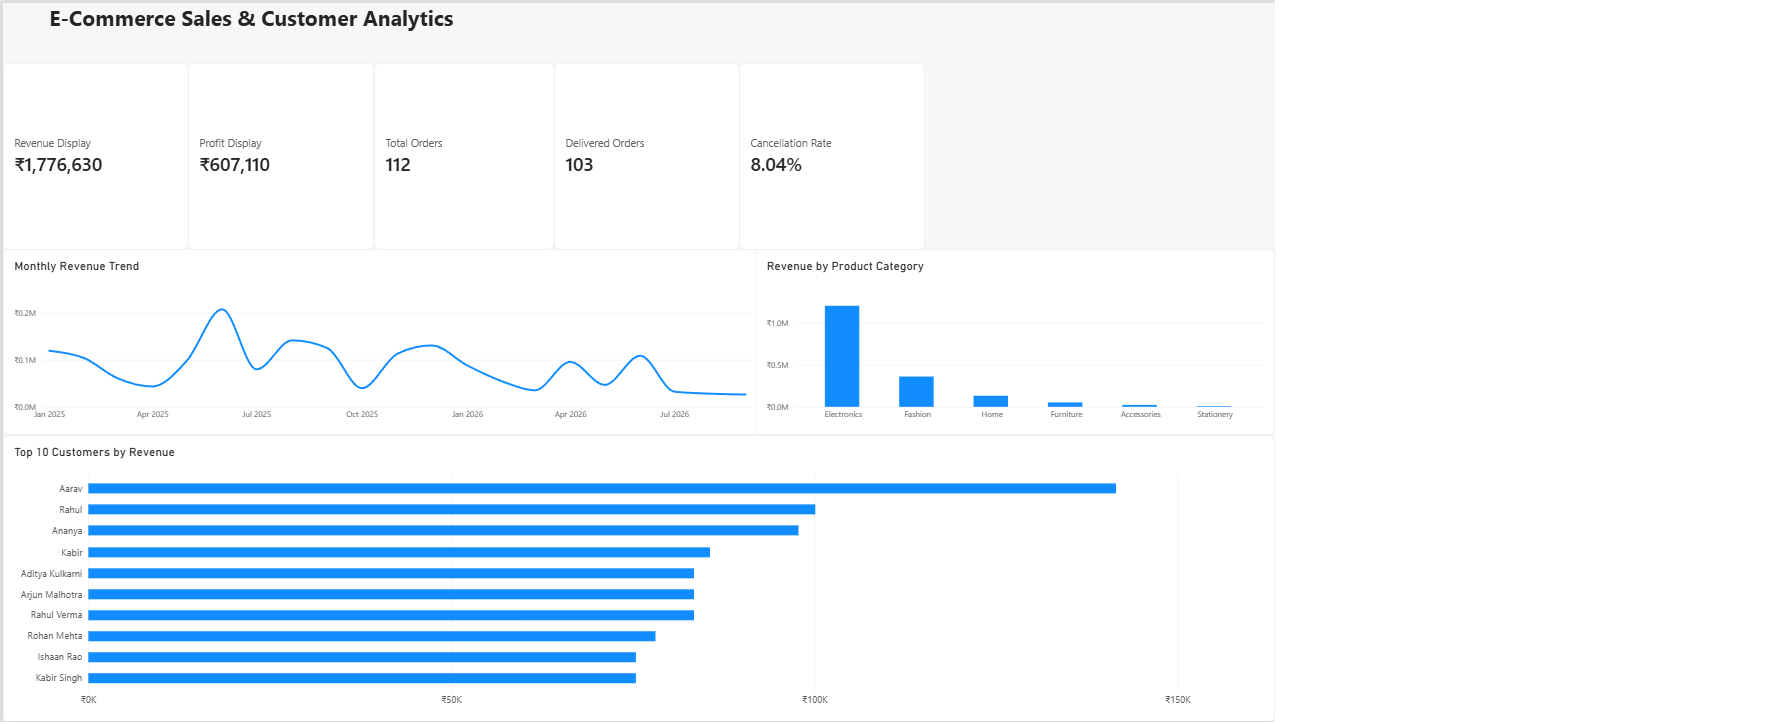

What the dashboard file says about the page in this screenshot:
{"tool":"powerbi","page":{"name":"Page 1","canvas":[1920,1080],"ordinal":0},"visuals":[{"type":"cardVisual","title":"Total Revenue","fields":{"Data":["ecommerce_analysis customers.Revenue Display"]},"box":[0,90,280,280],"z":0},{"type":"cardVisual","fields":{"Data":["ecommerce_analysis customers.Total Orders"]},"box":[560,90,272,280],"z":1000},{"type":"cardVisual","fields":{"Data":["ecommerce_analysis customers.Delivered Orders"]},"box":[832,90,280,280],"z":2000},{"type":"cardVisual","fields":{"Data":["ecommerce_analysis customers.Cancellation Rate"]},"box":[1112,90,280,280],"z":3000},{"type":"cardVisual","fields":{"Data":["ecommerce_analysis customers.Profit Display"]},"box":[280,90,280,280],"z":4000},{"type":"lineChart","title":"Monthly Revenue Trend","fields":{"Category":["ecommerce_analysis orders.Month Start"],"Y":["ecommerce_analysis customers.Total Revenue"]},"box":[0,370,1160,280],"z":5000},{"type":"clusteredColumnChart","title":"Revenue by Product Category","fields":{"Category":["ecommerce_analysis products.category"],"Y":["ecommerce_analysis customers.Total Revenue"]},"box":[1136,370,784,280],"z":6000},{"type":"clusteredBarChart","title":"Top 10 Customers by Revenue","fields":{"Category":["ecommerce_analysis customers.customer_name"],"Y":["ecommerce_analysis customers.Total Revenue"]},"box":[0,650,1920,430],"z":7000},{"type":"textbox","box":[70,0,630,280],"z":8000}]}

Visuals, with their boxes on the page's 1920x1080 design canvas (x1, y1, x2, y2). These are canvas units, not pixel positions in the 1791x724 screenshot, which may show the page scaled, cropped or inside an application window:
"Total Revenue" cardVisual: box=[0, 90, 280, 370]
cardVisual - ecommerce_analysis customers.Total Orders: box=[560, 90, 832, 370]
cardVisual - ecommerce_analysis customers.Delivered Orders: box=[832, 90, 1112, 370]
cardVisual - ecommerce_analysis customers.Cancellation Rate: box=[1112, 90, 1392, 370]
cardVisual - ecommerce_analysis customers.Profit Display: box=[280, 90, 560, 370]
"Monthly Revenue Trend" lineChart: box=[0, 370, 1160, 650]
"Revenue by Product Category" clusteredColumnChart: box=[1136, 370, 1920, 650]
"Top 10 Customers by Revenue" clusteredBarChart: box=[0, 650, 1920, 1080]
textbox: box=[70, 0, 700, 280]
